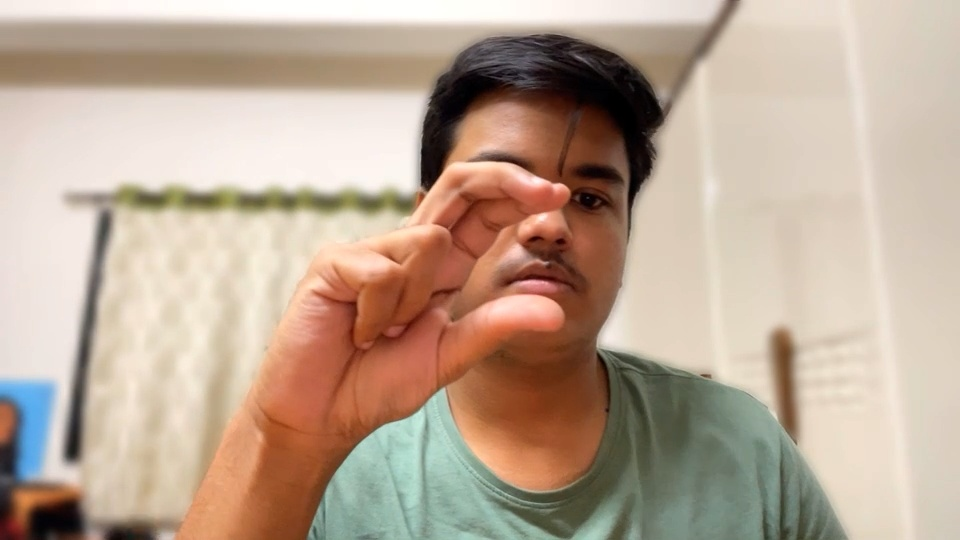No: (252, 149, 580, 434)
